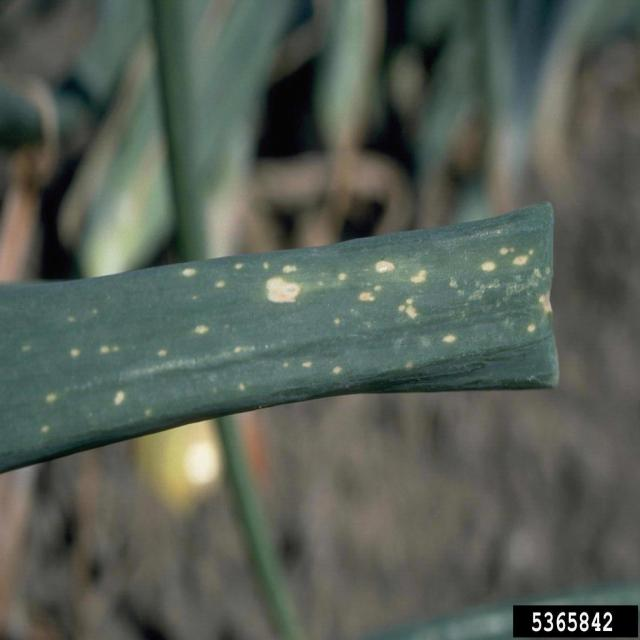blight: (251, 264, 323, 313)
